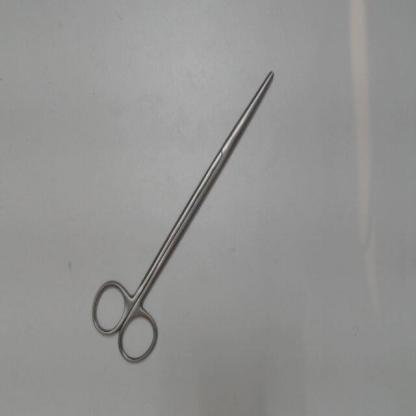9 Metzenbaum Scissors: (86, 66, 278, 374)
